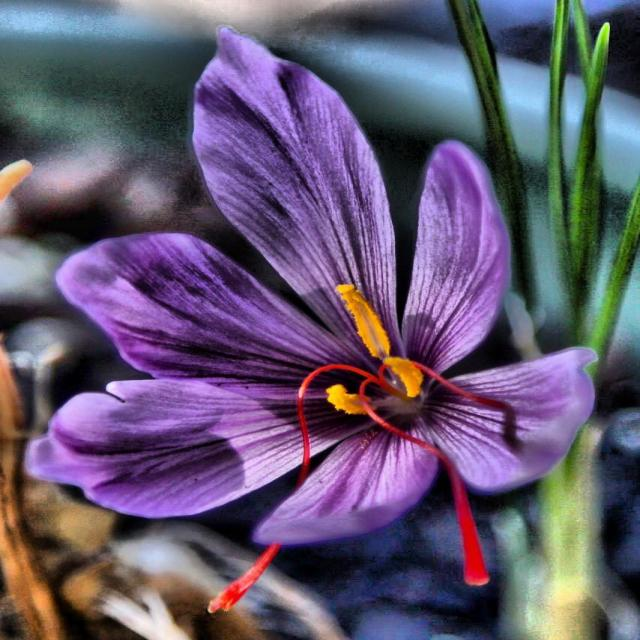Flower: (17, 21, 608, 616)
stigma: (204, 338, 354, 613), (368, 367, 499, 591), (422, 352, 537, 451)
